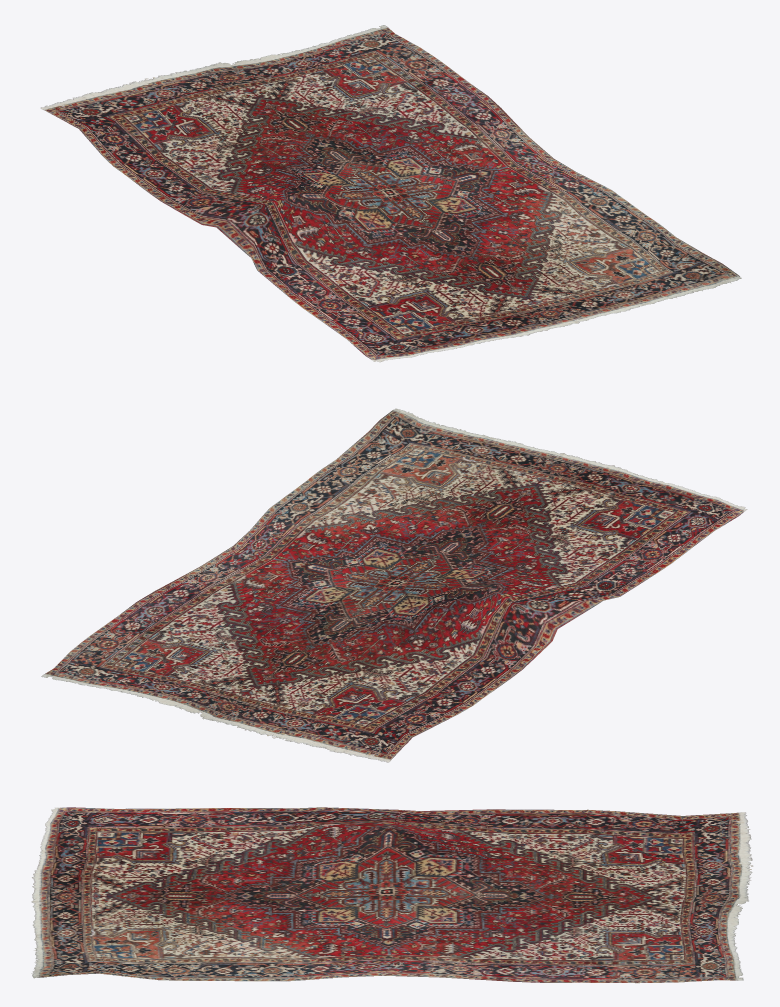
Rendered from carpet_floor.FBX.
3 views of the same model, one above another, from view 1: azimuth 30°, elevation 25°; view 2: azimuth 150°, elevation 25°; view 3: azimuth 270°, elevation 25° (orthographic).
Parts seen in each view (by area): view 1: carpet_floor; view 2: carpet_floor; view 3: carpet_floor.
Part boxes in pixels (x1,y1,x2,y2): carpet_floor: (40,25,741,362); carpet_floor: (41,408,747,762); carpet_floor: (31,807,753,983).
Size of the model in its own units: 205 by 11.59 by 342.
